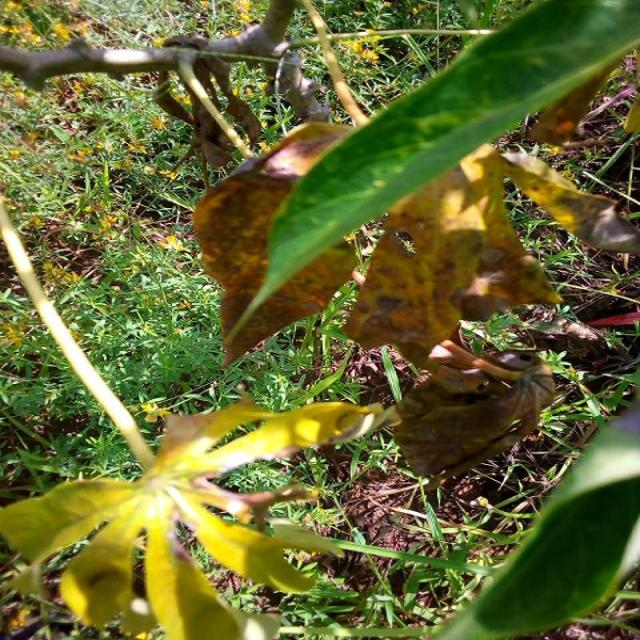cassava leaf: (213, 0, 638, 366), (426, 401, 638, 638)
